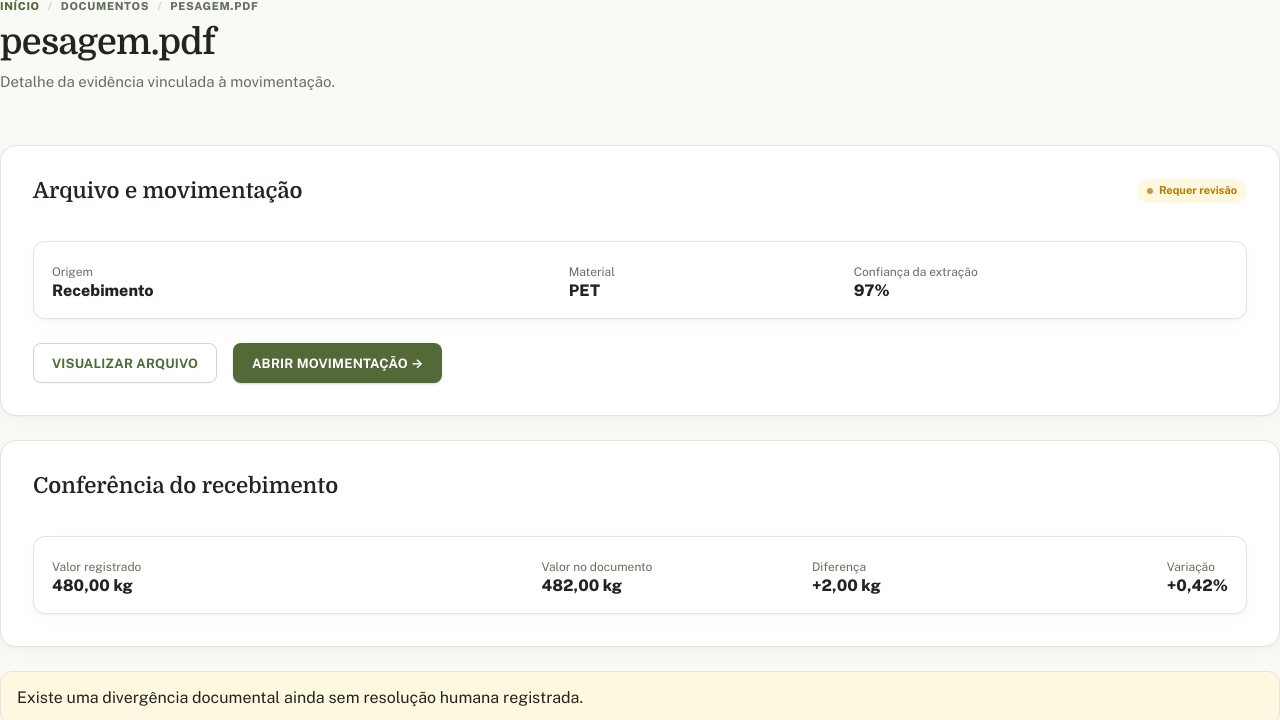
Test case: DocumentDetailPage › keeps metadata visible when secure file access fails
The image size is (1280, 720).
Check: the heading "pesagem.pdf" is shown, box [0, 22, 215, 63]
Click the button "VISUALIZAR ARQUIVO" at (125, 363), box [33, 343, 217, 383]
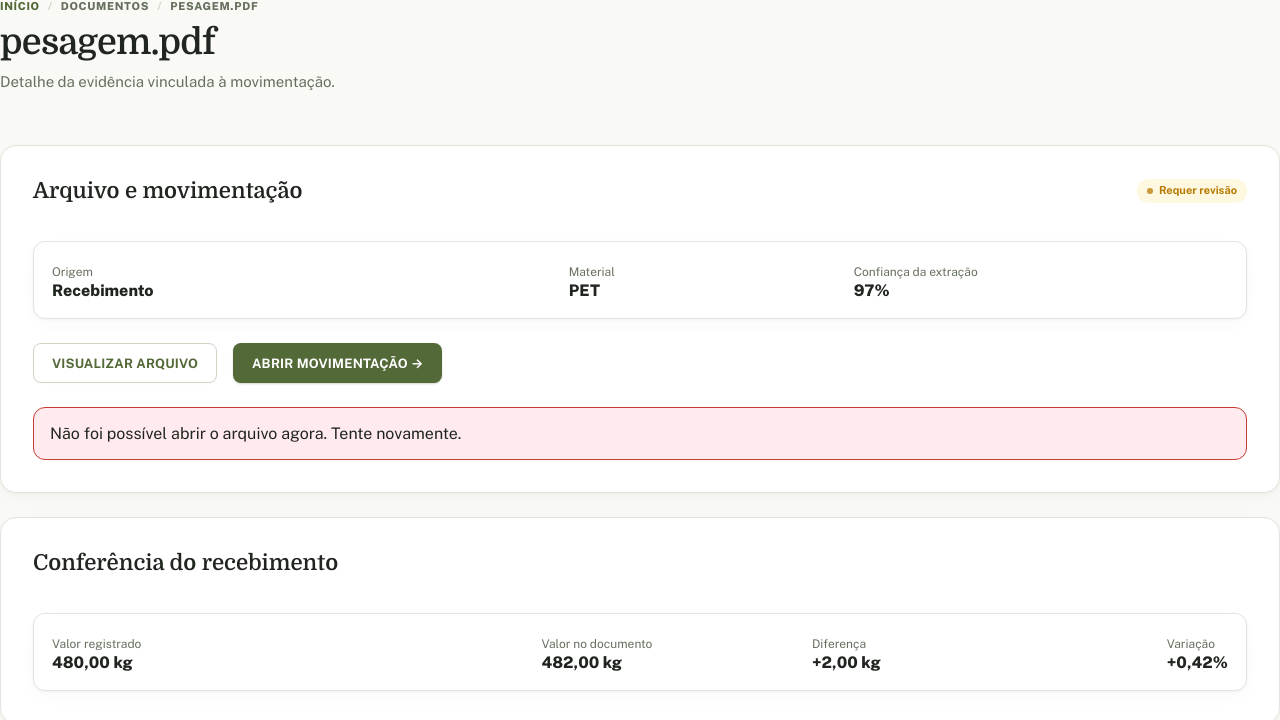
Check: the text "PET" is shown, box [569, 281, 600, 300]
Check: the text "Não foi possível abrir o arquivo agora. Tente novamente." is shown, box [33, 407, 1247, 460]
